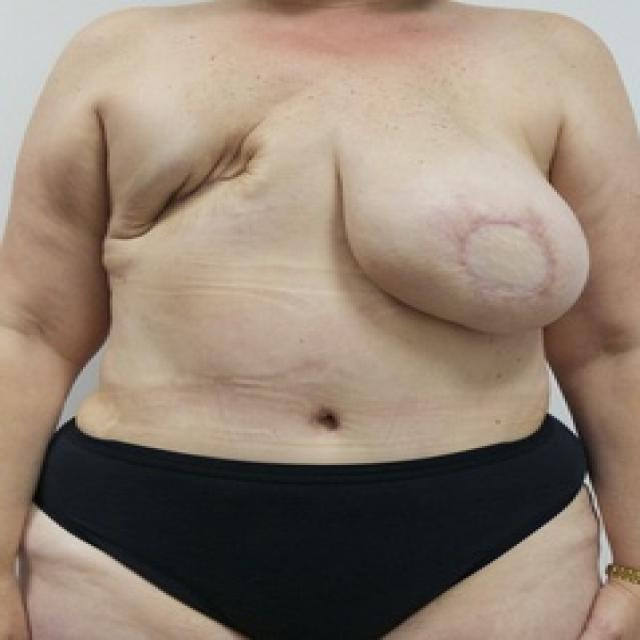Seno herido: (322, 98, 602, 352), (65, 98, 312, 352)
